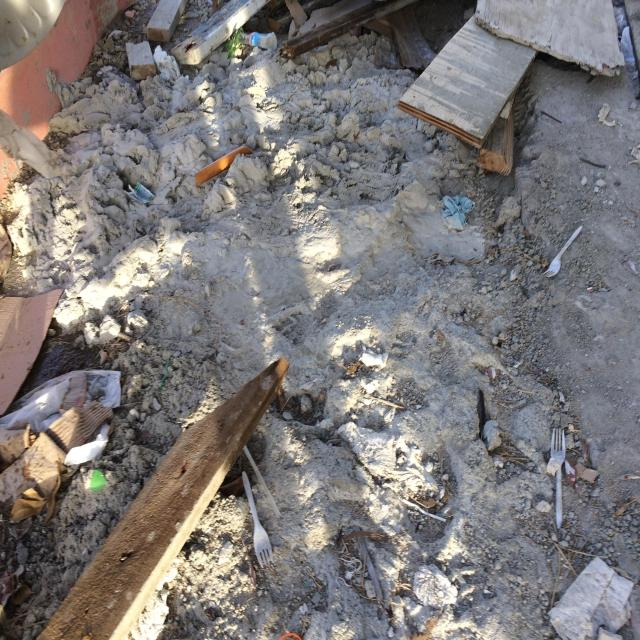litter: (0, 289, 65, 416), (1, 368, 121, 432), (242, 471, 275, 568), (540, 225, 583, 277), (551, 427, 566, 528), (438, 196, 475, 231), (400, 498, 446, 522), (125, 182, 155, 203), (249, 32, 277, 49), (90, 470, 107, 491)
